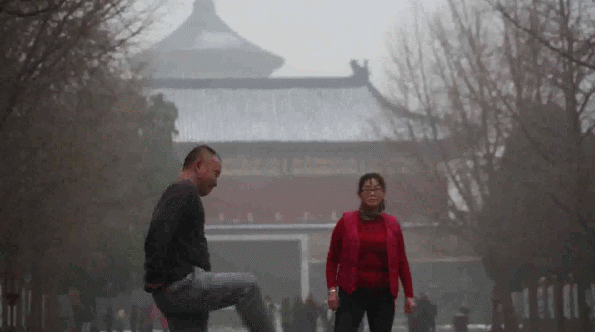person: (143, 144, 277, 332), (325, 172, 415, 332), (76, 279, 99, 332), (68, 276, 89, 332), (261, 295, 278, 332), (303, 294, 319, 332), (407, 296, 423, 332), (418, 292, 432, 332), (280, 296, 294, 332), (452, 306, 470, 332), (293, 295, 304, 332), (160, 309, 172, 331), (116, 303, 125, 332), (143, 306, 153, 332), (130, 304, 138, 332), (104, 305, 112, 332)
